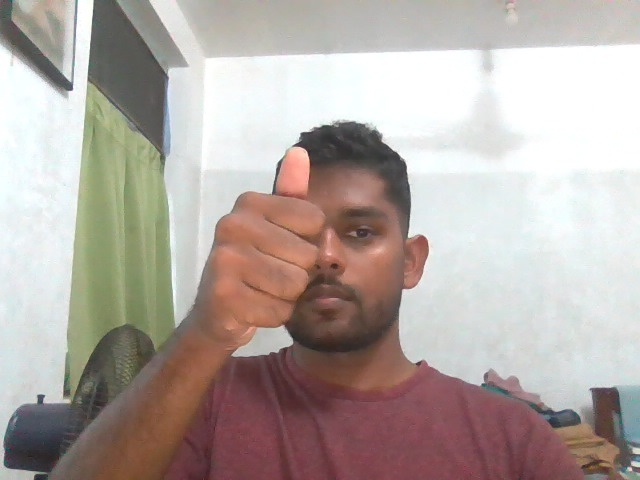good.: (185, 142, 325, 338)
